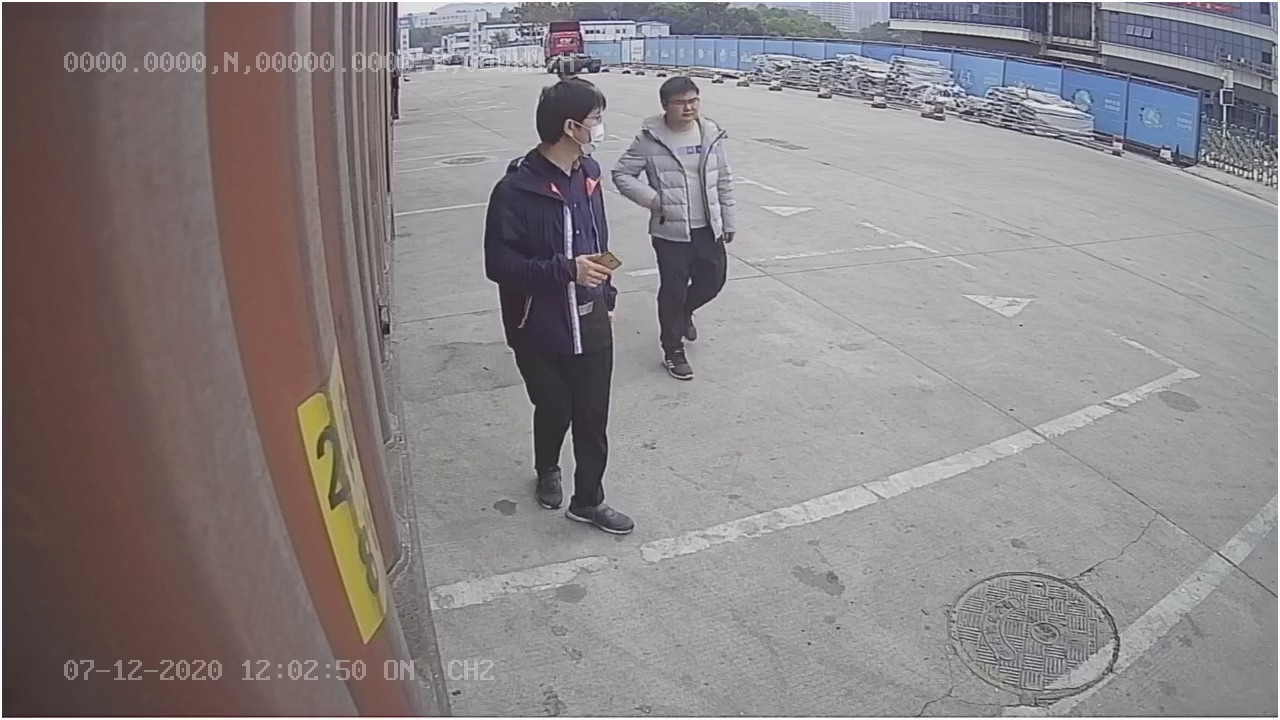person: (484, 73, 632, 537)
